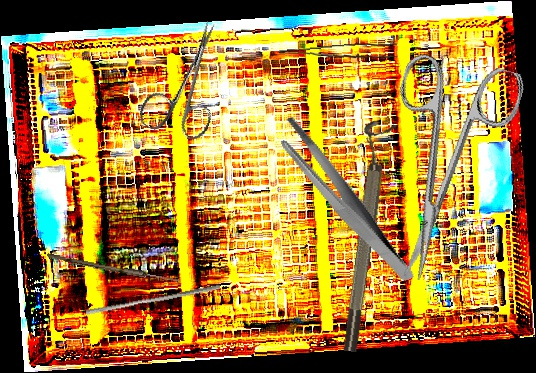Dressing Forceps: (273, 97, 415, 305)
Fixation Ring: (329, 119, 397, 354)
Iris Scissors: (350, 43, 528, 294), (136, 10, 242, 147)
Pusher: (85, 278, 221, 321)
Surgical Spoon: (46, 253, 181, 284)
Tissue Forceps: (278, 39, 399, 68)
